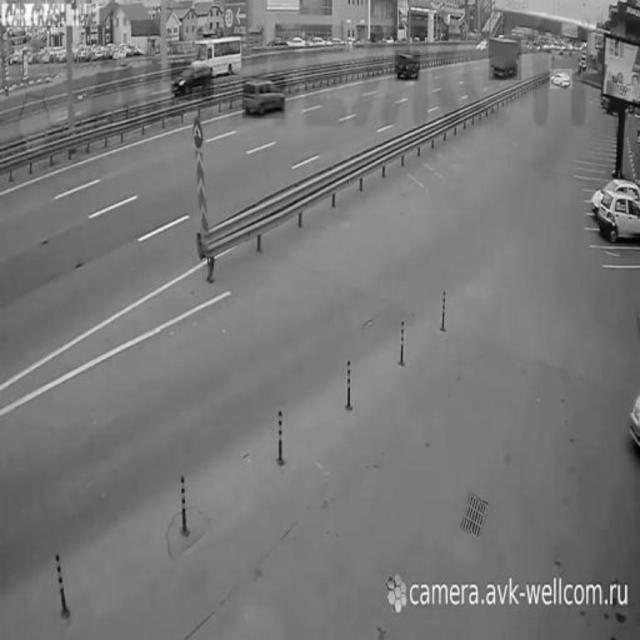vehicle: (599, 186, 640, 243), (242, 77, 286, 119), (173, 63, 215, 100), (194, 41, 245, 71), (489, 39, 521, 80), (396, 50, 421, 80), (549, 69, 573, 89)
